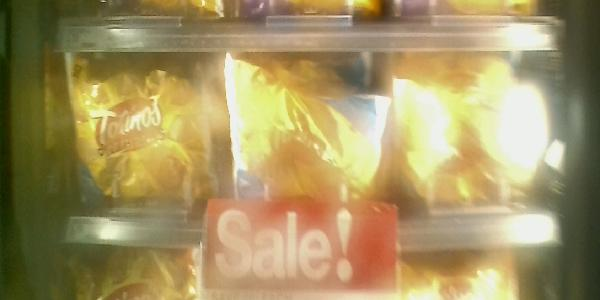icecream: (225, 49, 403, 224), (388, 48, 553, 216), (64, 50, 226, 216)
